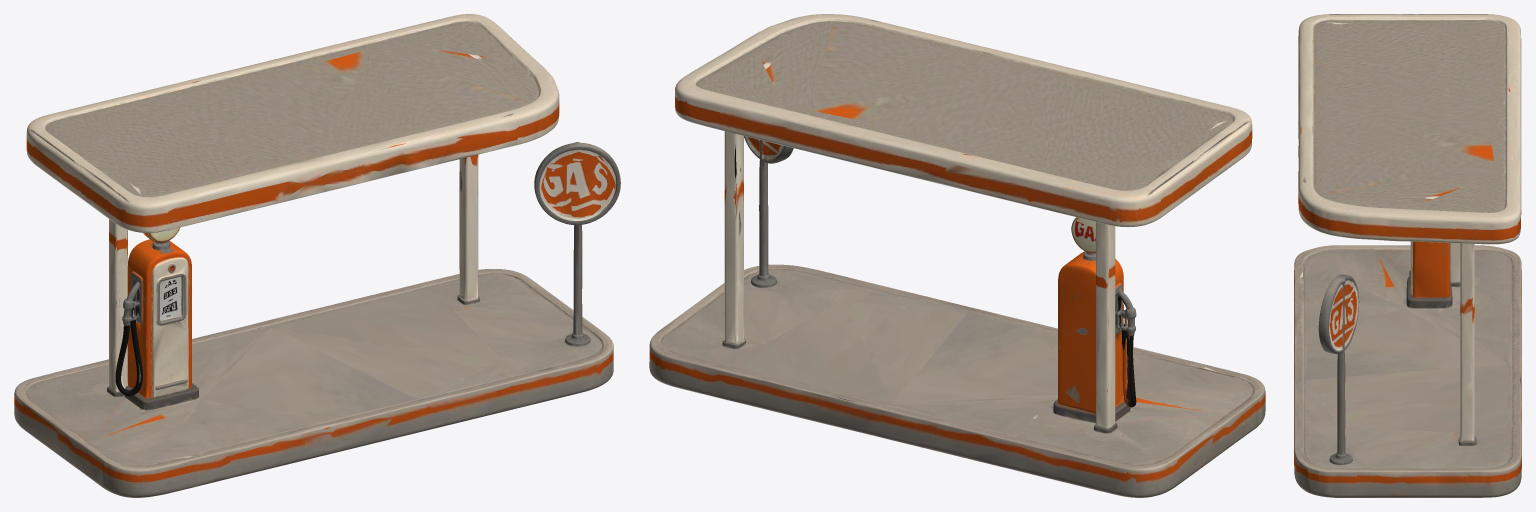
File: station.glb
3 views of the same model, side by side, from view 1: azimuth 30°, elevation 25°; view 2: azimuth 150°, elevation 25°; view 3: azimuth 270°, elevation 25° (orthographic). The views are drawn at different scales.
Visible parts, largest first — view 1: Mesh_0; view 2: Mesh_0; view 3: Mesh_0.
Part boxes in pixels (left/top/right/bottom): Mesh_0: left=14, top=14, right=620, bottom=497; Mesh_0: left=649, top=14, right=1265, bottom=497; Mesh_0: left=1294, top=14, right=1521, bottom=497.
Size of the model in its own units: 1 by 0.548 by 0.4203.
Materials: 1 (1 with a texture image).
